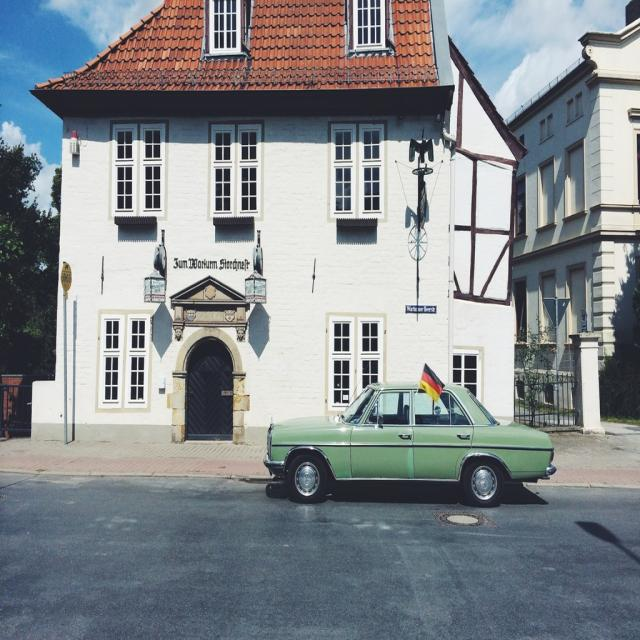car: (261, 378, 554, 504)
